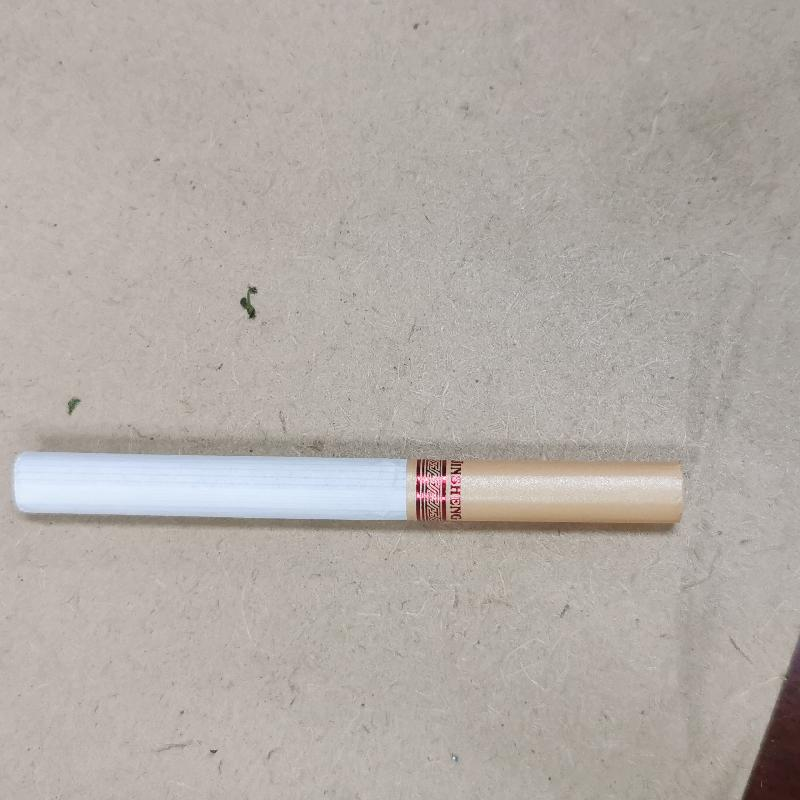cigarette: (11, 435, 690, 541)
